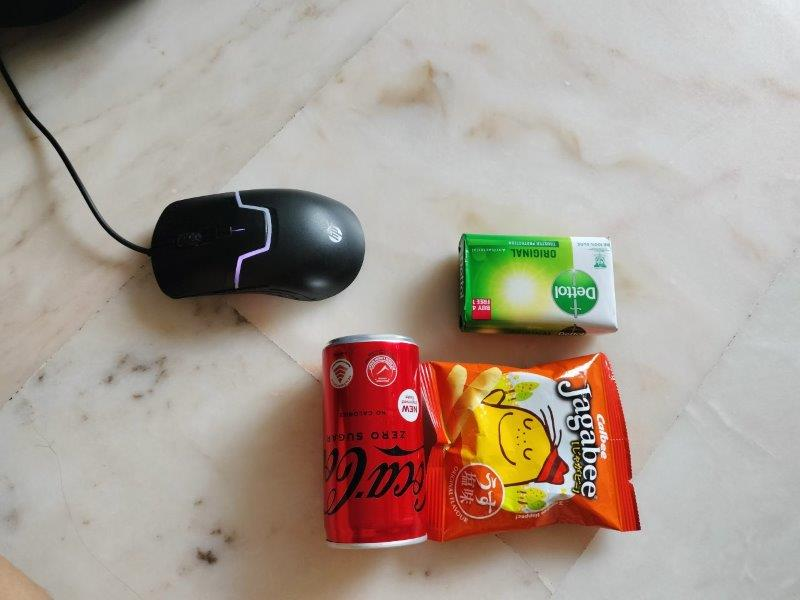Coke: (321, 333, 426, 546)
Dettol: (456, 231, 618, 337)
Jagabee: (420, 356, 642, 543)
